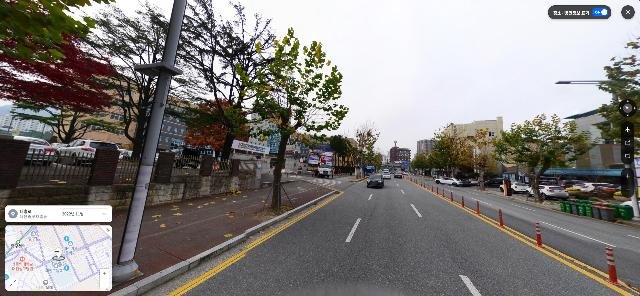other: (220, 25, 352, 211), (176, 1, 284, 174), (0, 17, 128, 149), (86, 1, 171, 167), (493, 113, 596, 201), (600, 27, 639, 139), (184, 97, 244, 168), (432, 121, 476, 180), (464, 120, 499, 190), (353, 119, 382, 178)
